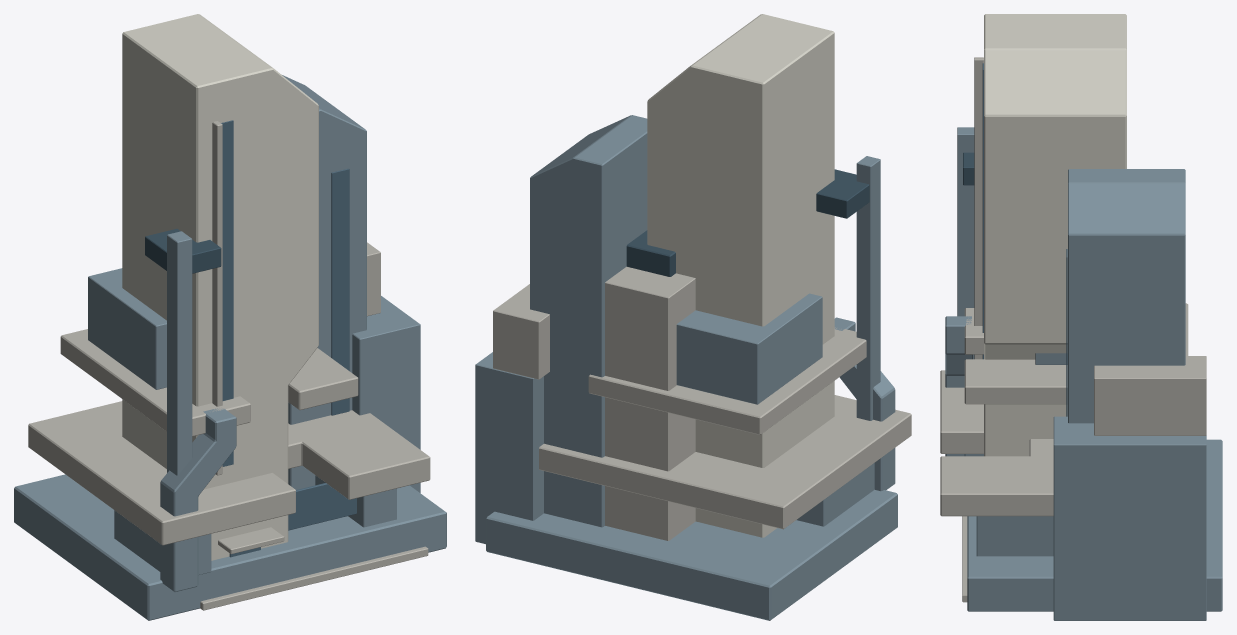
The model's file is CityV7_SteppedTower.fbx.
The picture shows the model from 3 angles, left to right: view 1: azimuth 30°, elevation 25°; view 2: azimuth 150°, elevation 25°; view 3: azimuth 270°, elevation 25°; orthographic projection. The views are drawn at different scales.
Visible parts, largest first — view 1: CityV7_SteppedTower__CityV7_Pale, CityV7_SteppedTower__CityV7_BlueStone, CityV7_SteppedTower__CityV7_Mineral, CityV7_SteppedTower__CityV7_Glass, CityV7_SteppedTower__CityV7_Structure; view 2: CityV7_SteppedTower__CityV7_BlueStone, CityV7_SteppedTower__CityV7_Pale, CityV7_SteppedTower__CityV7_Mineral, CityV7_SteppedTower__CityV7_Structure; view 3: CityV7_SteppedTower__CityV7_BlueStone, CityV7_SteppedTower__CityV7_Pale, CityV7_SteppedTower__CityV7_Mineral, CityV7_SteppedTower__CityV7_Glass, CityV7_SteppedTower__CityV7_Structure.
Part boxes in pixels (bbox=[...]): CityV7_SteppedTower__CityV7_Pale: bbox=[122, 14, 318, 560]; CityV7_SteppedTower__CityV7_BlueStone: bbox=[14, 75, 446, 620]; CityV7_SteppedTower__CityV7_Mineral: bbox=[28, 121, 430, 610]; CityV7_SteppedTower__CityV7_Glass: bbox=[221, 120, 356, 557]; CityV7_SteppedTower__CityV7_Structure: bbox=[145, 228, 221, 273]; CityV7_SteppedTower__CityV7_BlueStone: bbox=[475, 115, 897, 620]; CityV7_SteppedTower__CityV7_Pale: bbox=[647, 14, 834, 537]; CityV7_SteppedTower__CityV7_Mineral: bbox=[493, 266, 911, 540]; CityV7_SteppedTower__CityV7_Structure: bbox=[626, 169, 869, 276]; CityV7_SteppedTower__CityV7_BlueStone: bbox=[945, 127, 1222, 620]; CityV7_SteppedTower__CityV7_Pale: bbox=[984, 14, 1126, 456]; CityV7_SteppedTower__CityV7_Mineral: bbox=[940, 57, 1206, 602]; CityV7_SteppedTower__CityV7_Glass: bbox=[982, 63, 1067, 416]; CityV7_SteppedTower__CityV7_Structure: bbox=[963, 152, 974, 185].
Bounding box in the file's own units: 20.75 × 32 × 16.8.
